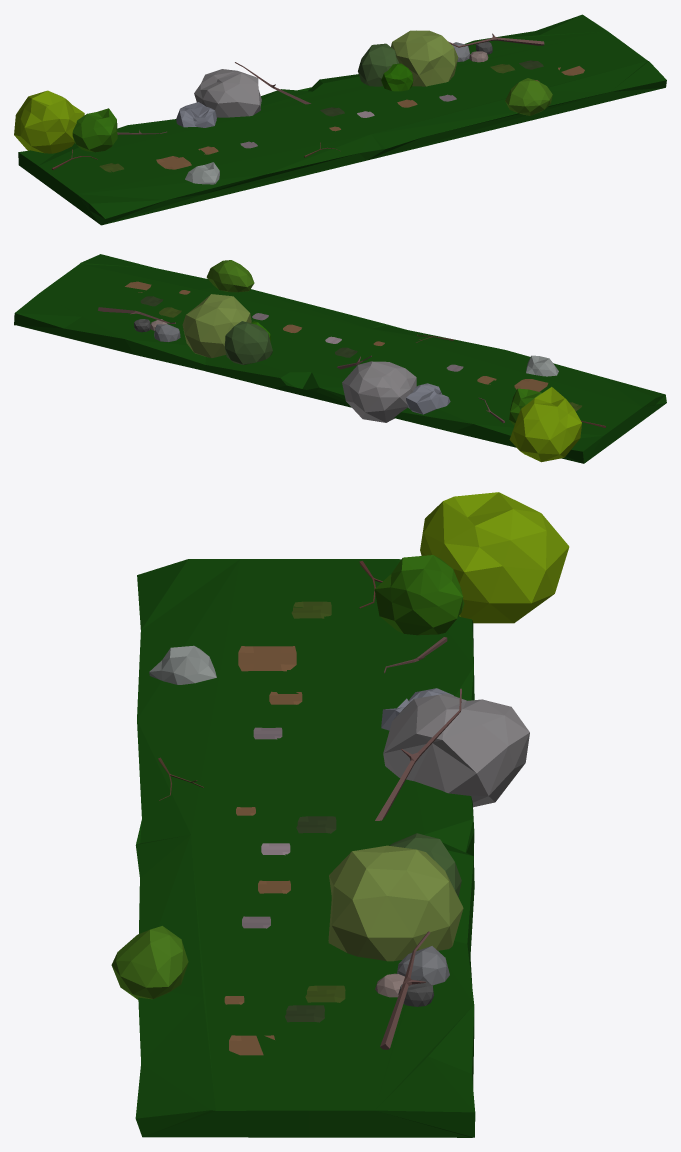
The model's file is forest_terrain.fbx.
3 views of the same model, one above another, from view 1: azimuth 30°, elevation 25°; view 2: azimuth 150°, elevation 25°; view 3: azimuth 270°, elevation 25° (orthographic). The views are drawn at different scales.
Parts seen in each view (by area): view 1: Cube, Icosphere, Icosphere.006, Icosphere.004, Icosphere.001, Icosphere.011, Icosphere.005, Icosphere.003, Icosphere.007, Icosphere.002, Cube.005, Plane; view 2: Cube, Icosphere, Icosphere.004, Icosphere.006, Icosphere.005, Icosphere.011, Icosphere.003, Icosphere.002, Icosphere.001, Icosphere.008; view 3: Cube, Icosphere, Icosphere.006, Icosphere.004, Icosphere.001, Icosphere.011, Icosphere.002, Plane, Icosphere.008, Icosphere.005, Cube.005.
Boxes of the visible parts, x1=… form: Cube: x1=18, y1=14, x2=666, y2=225; Icosphere: x1=14, y1=90, x2=84, y2=153; Icosphere.006: x1=391, y1=30, x2=458, y2=86; Icosphere.004: x1=194, y1=69, x2=261, y2=117; Icosphere.001: x1=72, y1=108, x2=117, y2=152; Icosphere.011: x1=505, y1=78, x2=552, y2=115; Icosphere.005: x1=358, y1=43, x2=399, y2=86; Icosphere.003: x1=176, y1=102, x2=216, y2=127; Icosphere.007: x1=381, y1=63, x2=413, y2=91; Icosphere.002: x1=185, y1=162, x2=219, y2=184; Cube.005: x1=448, y1=33, x2=544, y2=47; Plane: x1=156, y1=156, x2=191, y2=169; Cube: x1=14, y1=254, x2=666, y2=463; Icosphere: x1=509, y1=387, x2=581, y2=462; Icosphere.004: x1=342, y1=361, x2=416, y2=422; Icosphere.006: x1=182, y1=294, x2=251, y2=357; Icosphere.005: x1=225, y1=321, x2=272, y2=364; Icosphere.011: x1=206, y1=260, x2=254, y2=292; Icosphere.003: x1=406, y1=383, x2=450, y2=414; Icosphere.002: x1=526, y1=355, x2=558, y2=376; Icosphere.001: x1=509, y1=388, x2=541, y2=425; Icosphere.008: x1=154, y1=324, x2=180, y2=342; Cube: x1=135, y1=559, x2=475, y2=1137; Icosphere: x1=420, y1=492, x2=569, y2=623; Icosphere.006: x1=328, y1=845, x2=463, y2=961; Icosphere.004: x1=383, y1=693, x2=529, y2=807; Icosphere.001: x1=374, y1=555, x2=464, y2=635; Icosphere.011: x1=111, y1=926, x2=188, y2=999; Icosphere.002: x1=149, y1=645, x2=216, y2=684; Plane: x1=238, y1=646, x2=296, y2=671; Icosphere.008: x1=397, y1=946, x2=449, y2=985; Icosphere.005: x1=389, y1=833, x2=461, y2=896; Cube.005: x1=380, y1=931, x2=430, y2=1049.
Bounding box in the file's own units: 4917 × 589 × 1724.
